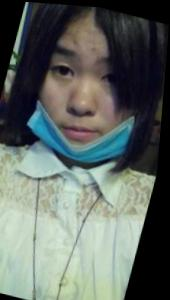WRONG: (19, 34, 154, 167)
